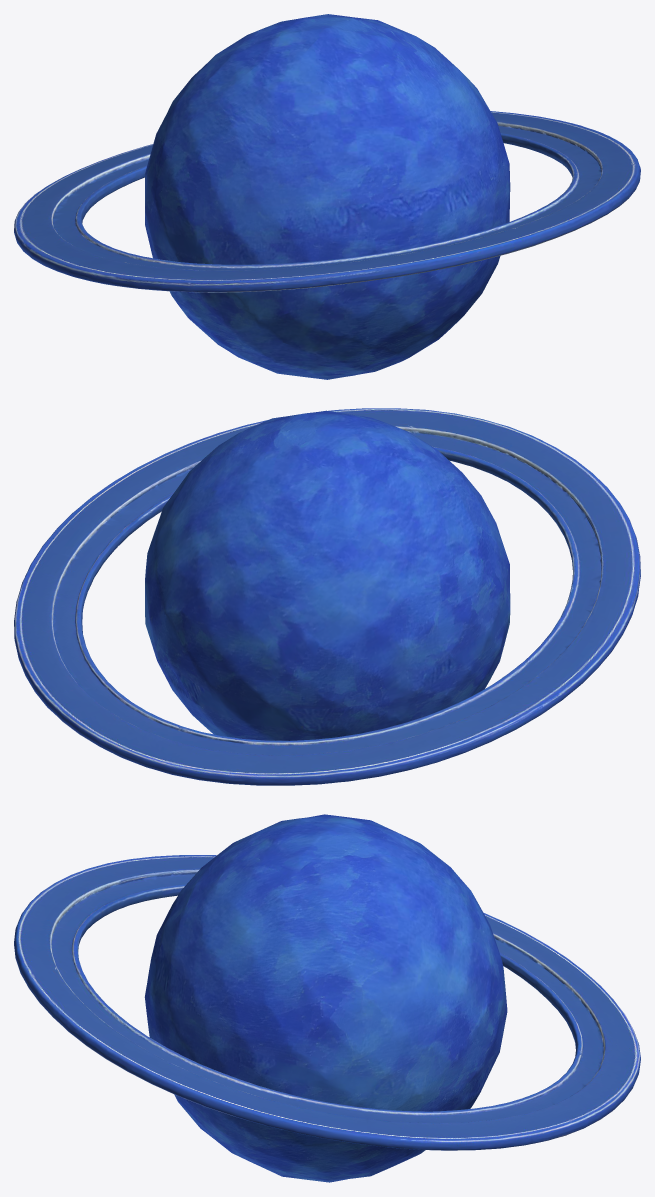
Rendered from planet.glb.
The picture shows the model from 3 angles, top to bottom: view 1: azimuth 30°, elevation 25°; view 2: azimuth 150°, elevation 25°; view 3: azimuth 270°, elevation 25°; orthographic projection.
Visible parts, largest first — view 1: tripo_node_b9ac1048-5d6c-4b9c-8df0-4baa7e5de715; view 2: tripo_node_b9ac1048-5d6c-4b9c-8df0-4baa7e5de715; view 3: tripo_node_b9ac1048-5d6c-4b9c-8df0-4baa7e5de715.
Part boxes in pixels (x1,y1,x2,y2): tripo_node_b9ac1048-5d6c-4b9c-8df0-4baa7e5de715: (14, 14, 640, 379); tripo_node_b9ac1048-5d6c-4b9c-8df0-4baa7e5de715: (14, 408, 640, 785); tripo_node_b9ac1048-5d6c-4b9c-8df0-4baa7e5de715: (14, 814, 640, 1182).
Size of the model in its own units: 0.9775 by 0.5787 by 0.9796.
Materials: 1 (1 with a texture image).
